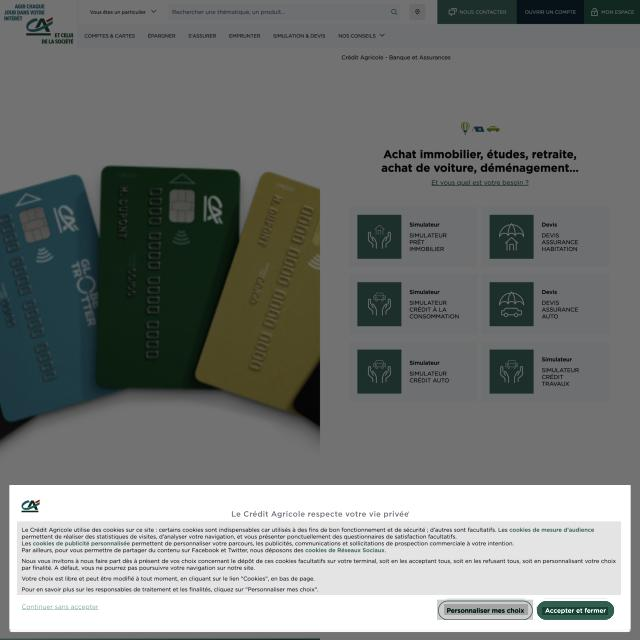CheckBox: (437, 600, 533, 620), (537, 600, 615, 621), (19, 600, 99, 612), (542, 607, 608, 615)
Input field: (17, 522, 621, 595)
breadcrumbs: (229, 506, 408, 520)
data feed: (444, 604, 528, 615)
date picker: (18, 496, 43, 513)
header: (9, 486, 631, 632)
